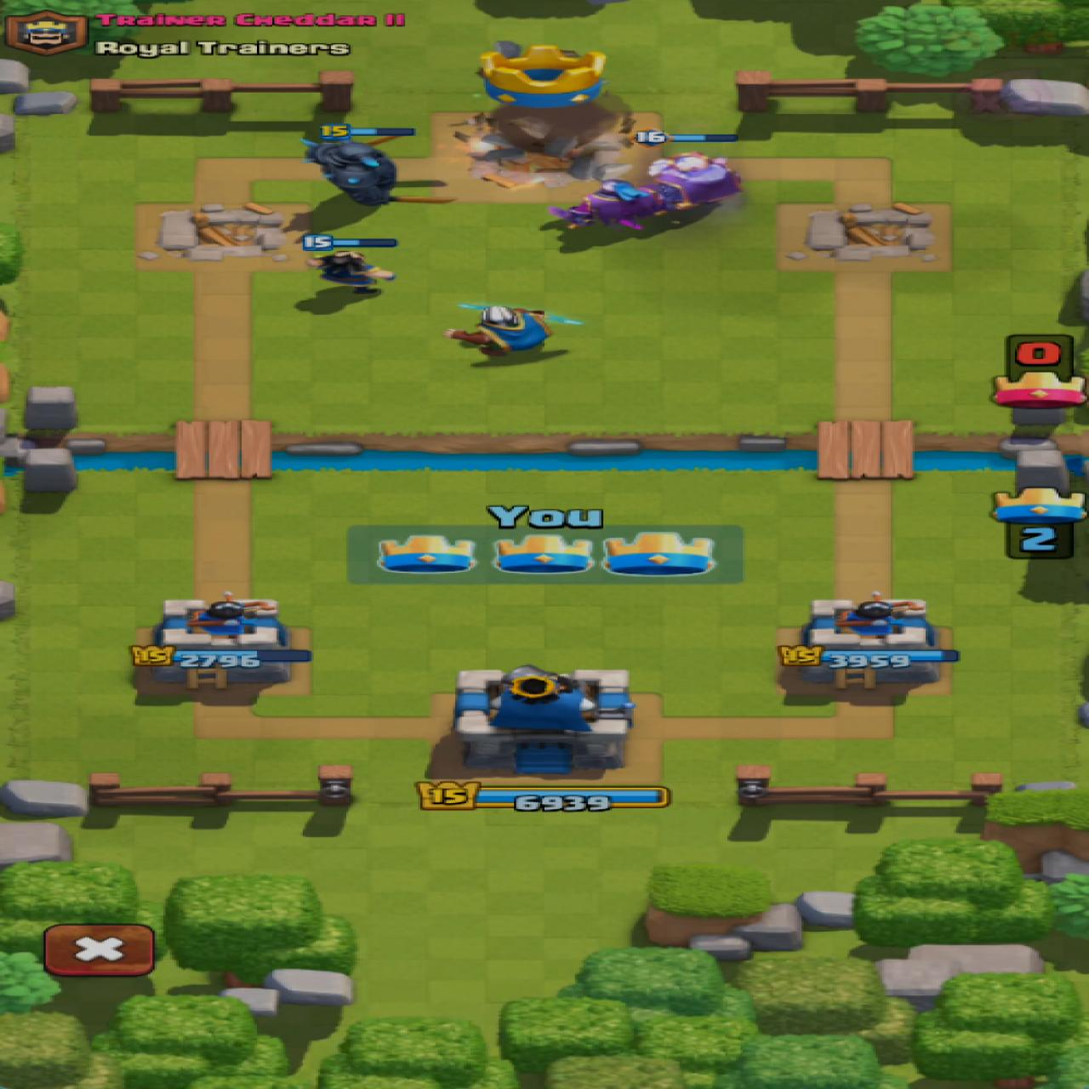Player-ThreeCrown: (346, 505, 750, 585)
